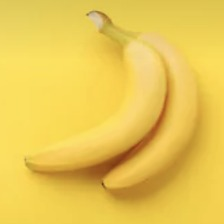banana: (24, 44, 224, 208)
